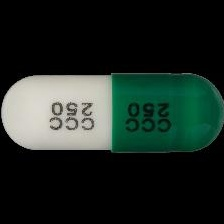60429-936: (0, 0, 224, 224)
